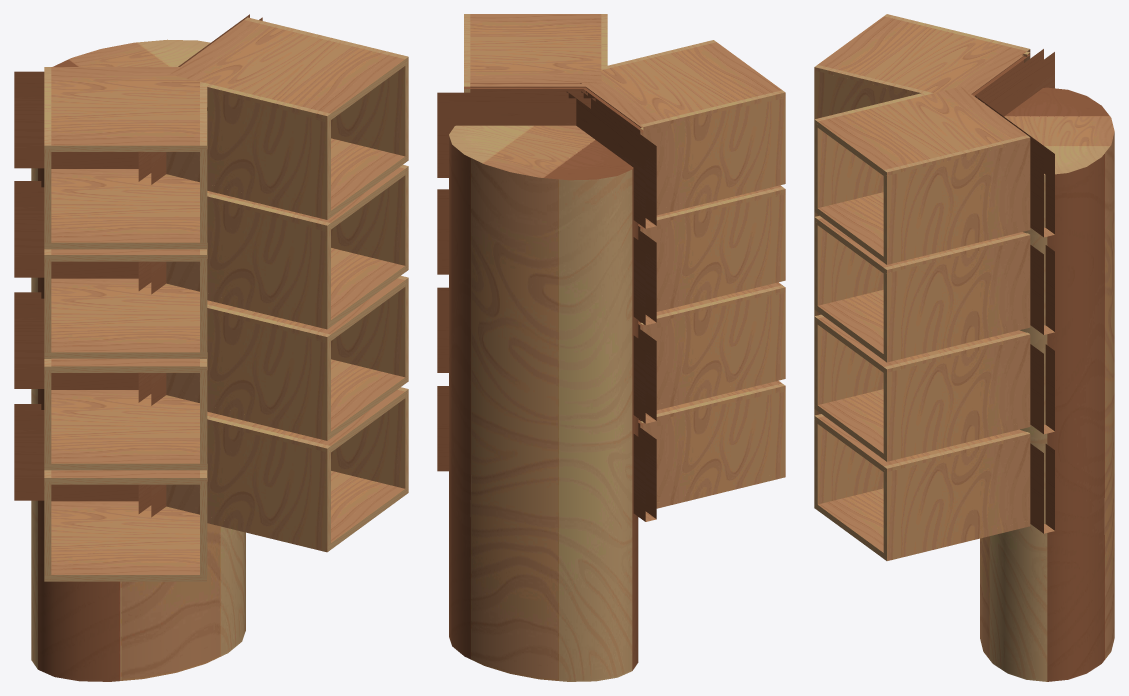
File: layout_corner_2columns.fbx
3 views of the same model, side by side, from view 1: azimuth 30°, elevation 25°; view 2: azimuth 150°, elevation 25°; view 3: azimuth 270°, elevation 25° (orthographic). The views are drawn at different scales.
Visible parts, largest first — view 1: Cylinder, Shelf-CL-01, Shelf-CL-01 1, Shelf-CL-01 3, Shelf-CL-01 2, Shelf-TM-00 7, Shelf-TM-00 3, Shelf-BM-00 4, Shelf-BM-00 7, Shelf-BM-00 6, Shelf-BM-00 5, Shelf-CR-01 (+43 smaller); view 2: Cylinder, Shelf-CL-01 4, Shelf-CL-01 7, Shelf-CL-01 5, Shelf-CL-01 6, Shelf-TM-00 3, Shelf-TM-00 7, Shelf-Back-00 (1) 3, Shelf-Back-00 (1) 7, Shelf-Back-00 (1) 5, Shelf-Back-00 (1) 6, Shelf-Back-00 (1) 4 (+14 smaller); view 3: Cylinder, Shelf-CR-01 1, Shelf-CR-01, Shelf-CR-01 2, Shelf-CR-01 3, Shelf-TM-00 3, Shelf-TM-00 7, Shelf-CL-01 2, Shelf-CL-01, Shelf-CL-01 3, Shelf-CL-01 1, Shelf-BM-00 1 (+22 smaller).
Part boxes in pixels (box(x1,y1,x2,y2)): Cylinder: box(31, 39, 245, 681); Shelf-CL-01: box(166, 423, 330, 545); Shelf-CL-01 1: box(166, 311, 330, 434); Shelf-CL-01 3: box(166, 91, 330, 213); Shelf-CL-01 2: box(166, 200, 330, 322); Shelf-TM-00 7: box(51, 67, 199, 151); Shelf-TM-00 3: box(170, 20, 405, 119); Shelf-BM-00 4: box(51, 390, 199, 470); Shelf-BM-00 7: box(51, 169, 199, 249); Shelf-BM-00 6: box(51, 501, 199, 581); Shelf-BM-00 5: box(51, 278, 199, 358); Shelf-CR-01: box(331, 393, 408, 488); Cylinder: box(449, 125, 638, 681); Shelf-CL-01 4: box(640, 291, 785, 404); Shelf-CL-01 7: box(640, 96, 785, 209); Shelf-CL-01 5: box(640, 193, 785, 305); Shelf-CL-01 6: box(640, 389, 785, 502); Shelf-TM-00 3: box(470, 14, 601, 88); Shelf-TM-00 7: box(576, 42, 781, 130); Shelf-Back-00 (1) 3: box(437, 92, 595, 177); Shelf-Back-00 (1) 7: box(566, 91, 656, 228); Shelf-Back-00 (1) 5: box(633, 229, 656, 325); Shelf-Back-00 (1) 6: box(633, 426, 656, 521); Shelf-Back-00 (1) 4: box(633, 328, 656, 423); Cylinder: box(980, 87, 1114, 681); Shelf-CR-01 1: box(883, 338, 1030, 455); Shelf-CR-01: box(883, 437, 1030, 555); Shelf-CR-01 2: box(883, 238, 1030, 356); Shelf-CR-01 3: box(883, 141, 1030, 258); Shelf-TM-00 3: box(817, 86, 1026, 175); Shelf-TM-00 7: box(818, 16, 1026, 95); Shelf-CL-01 2: box(814, 220, 883, 305); Shelf-CL-01: box(814, 419, 883, 504); Shelf-CL-01 3: box(814, 123, 883, 208); Shelf-CL-01 1: box(814, 320, 883, 404); Shelf-BM-00 1: box(817, 389, 883, 458).
Bounding box in the file's own units: 181 × 290 × 145.
